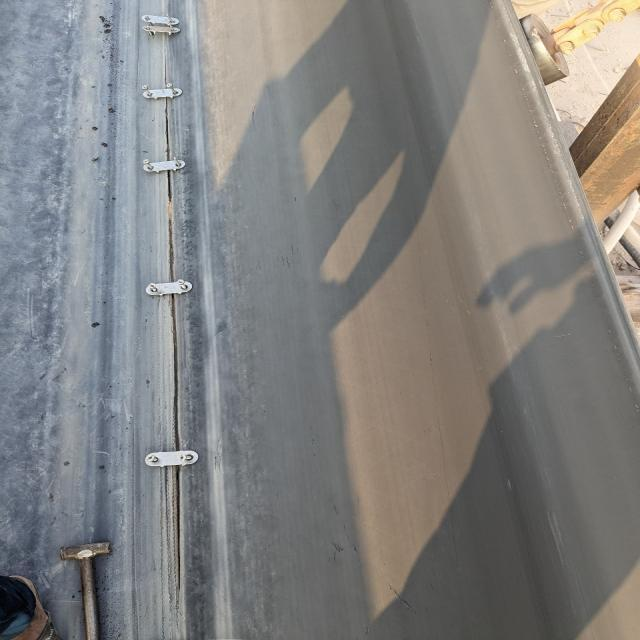Tear: (168, 293, 180, 452), (177, 465, 182, 590), (164, 96, 172, 160), (168, 170, 172, 282)
